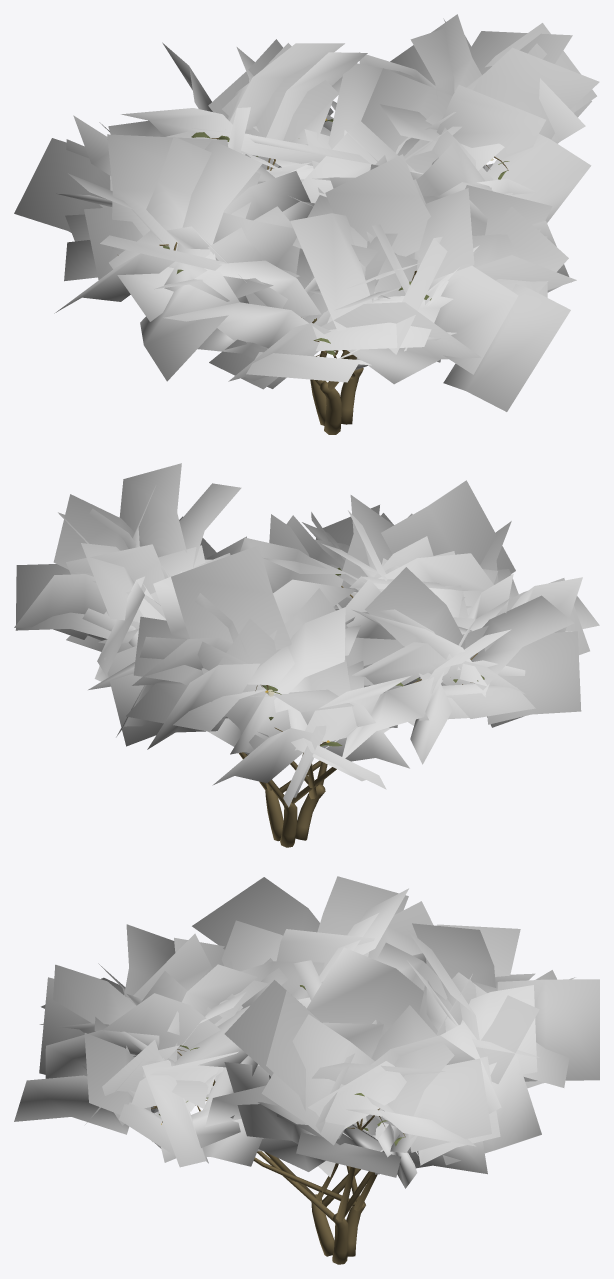
File: V7_Ciste_0_Niveau1.fbx
3 renders of one model, top to bottom at view 1: azimuth 30°, elevation 25°; view 2: azimuth 150°, elevation 25°; view 3: azimuth 270°, elevation 25°, orthographic. The views are drawn at different scales.
Visible parts, largest first — view 1: V7_Ciste_0_Detail1; view 2: V7_Ciste_0_Detail1; view 3: V7_Ciste_0_Detail1.
Boxes of the visible parts, x1=… form: V7_Ciste_0_Detail1: x1=14, y1=14, x2=599, y2=434; V7_Ciste_0_Detail1: x1=14, y1=463, x2=599, y2=847; V7_Ciste_0_Detail1: x1=14, y1=876, x2=599, y2=1264.
Size of the model in its own units: 183 by 111 by 177.
